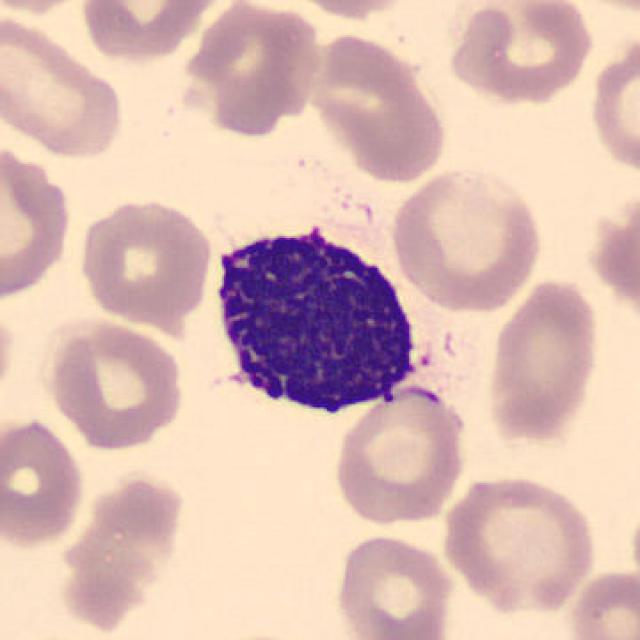Basophil: (204, 210, 432, 425)
RBC: (386, 164, 546, 314), (437, 471, 601, 617), (304, 28, 450, 185), (482, 273, 604, 450), (174, 0, 324, 141), (329, 381, 471, 529), (43, 316, 188, 453), (0, 9, 128, 162), (65, 476, 186, 635), (75, 196, 215, 328), (444, 0, 598, 106), (331, 530, 457, 640), (0, 134, 76, 305), (0, 412, 89, 552), (76, 0, 230, 65), (585, 25, 640, 182), (564, 566, 638, 640), (593, 198, 640, 312), (281, 0, 419, 23), (0, 302, 18, 414), (627, 486, 640, 618), (0, 0, 96, 16), (562, 0, 638, 16)
